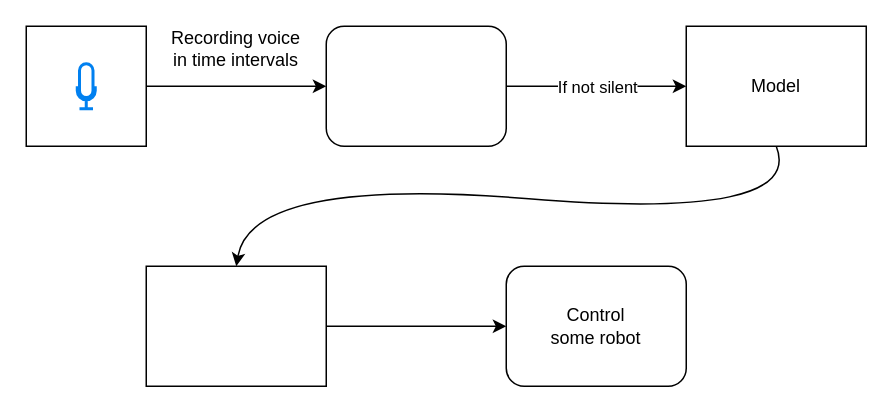
This 893x413 diagram has some shape labels left out. Here are the shapes that lost their labels. From the top down, the centre of each, then its label:
At point 415,85: "Math function detecting silent".
At point 235,325: "Detected command".
